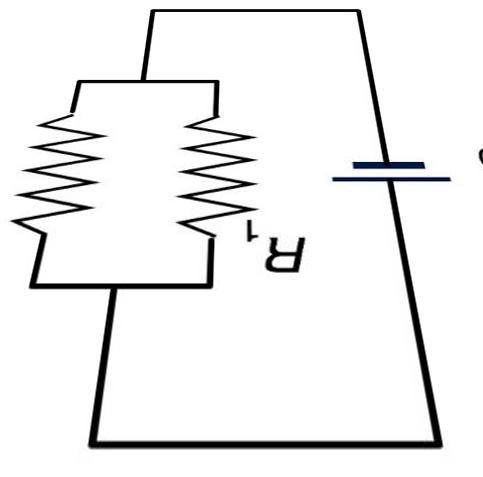resistor: (2, 96, 111, 241), (170, 107, 252, 245)
